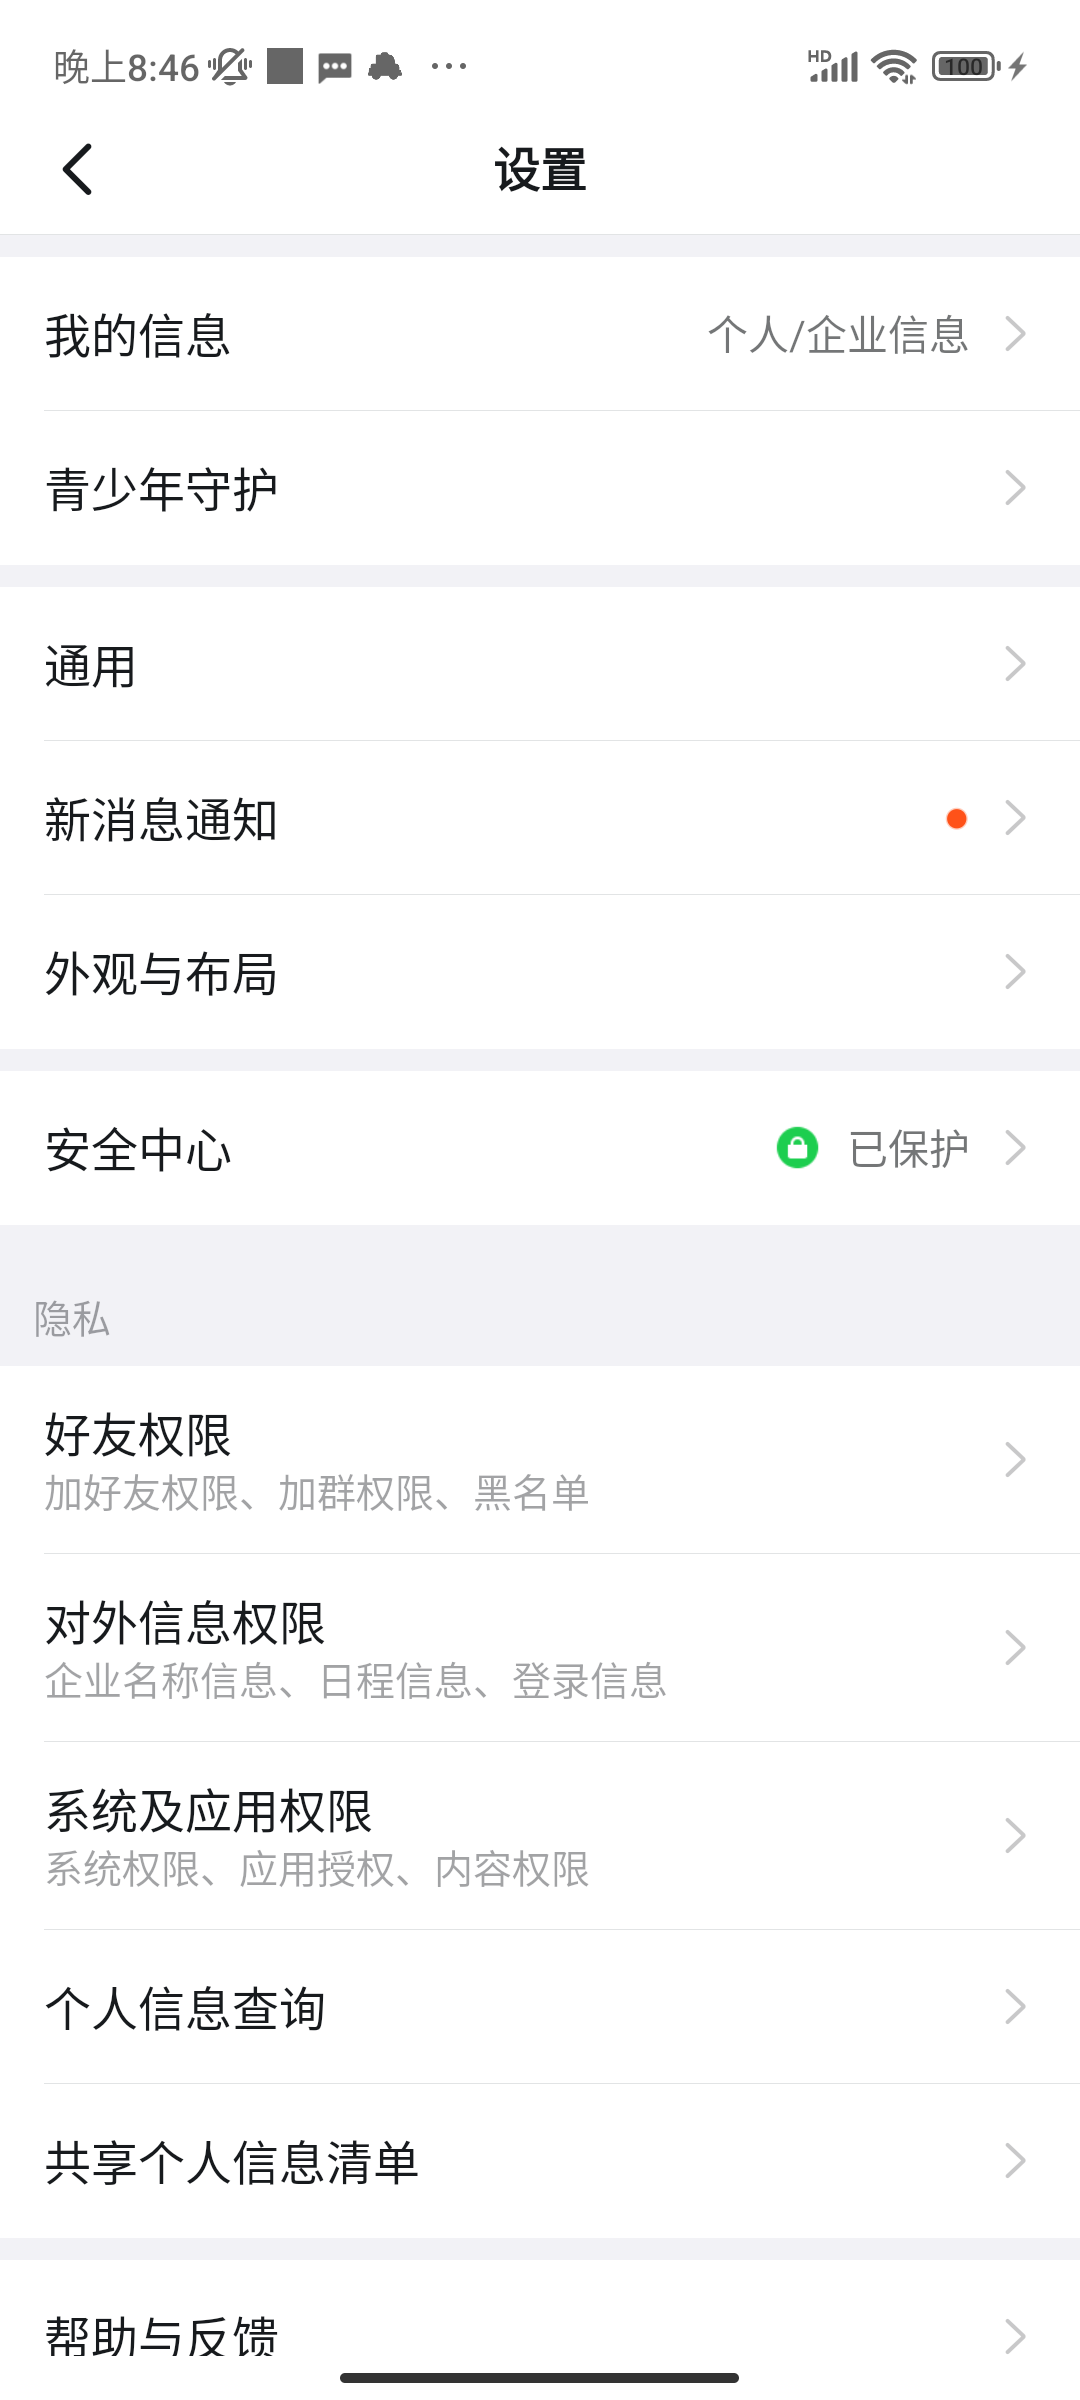ui_group: (15, 1740, 1056, 1899), (18, 1567, 1056, 1719), (8, 1087, 1056, 1224), (18, 1397, 1060, 1526), (34, 274, 1052, 390)
